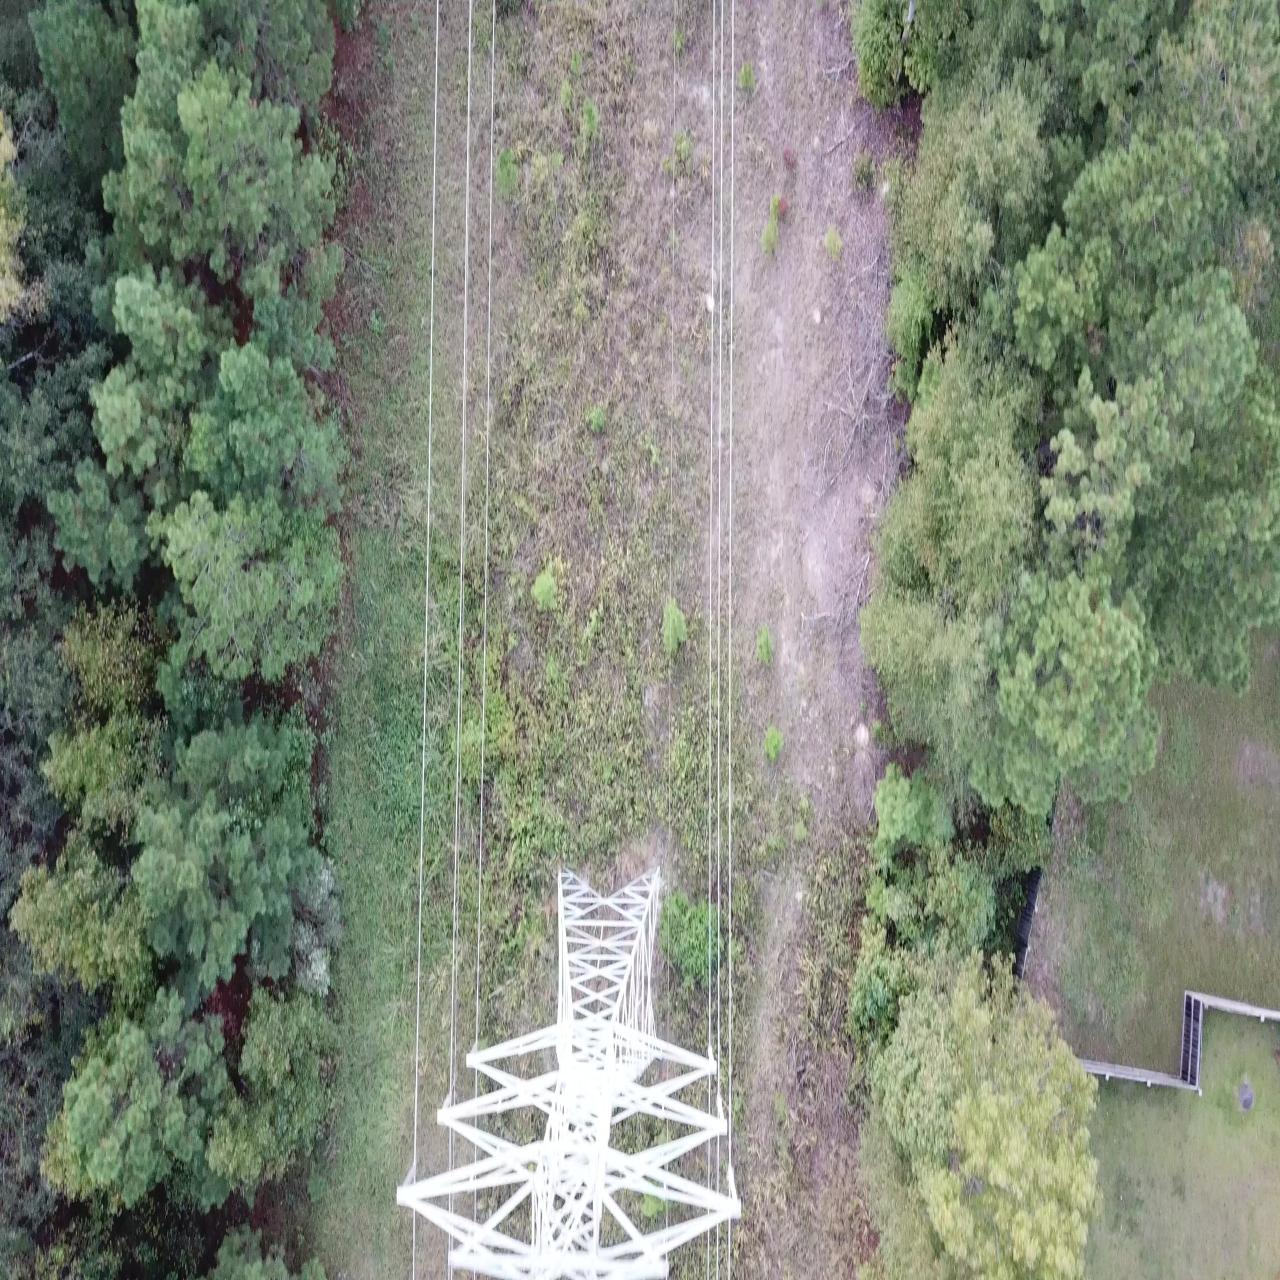cable: (414, 0, 438, 1182), (450, 0, 471, 1107), (476, 1, 495, 1041), (454, 1, 471, 1104), (668, 0, 675, 1041), (717, 0, 723, 1092), (709, 0, 715, 1044), (729, 0, 734, 1166), (413, 1210, 415, 1279), (728, 1219, 730, 1279), (717, 1136, 720, 1192), (716, 1225, 719, 1279), (708, 1139, 710, 1187), (448, 1233, 450, 1279), (449, 1129, 451, 1170), (452, 1131, 455, 1169), (475, 1070, 477, 1097), (708, 1231, 709, 1279), (709, 1076, 710, 1114), (475, 1146, 476, 1162), (451, 1237, 452, 1251), (451, 1267, 452, 1279), (717, 1109, 719, 1117), (474, 1272, 475, 1279), (666, 1253, 667, 1260), (666, 1278, 667, 1279)
tower_lattice: (396, 865, 742, 1279)
